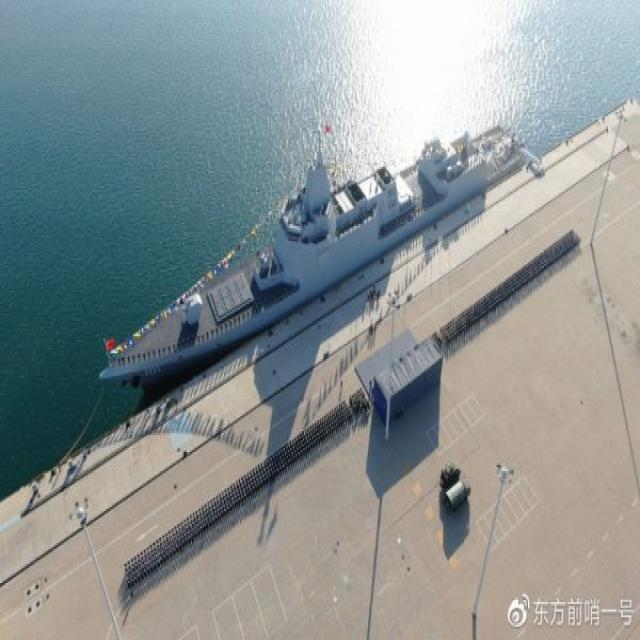Destroyer-Renhai-Class-055-CHI: (96, 116, 527, 382)
